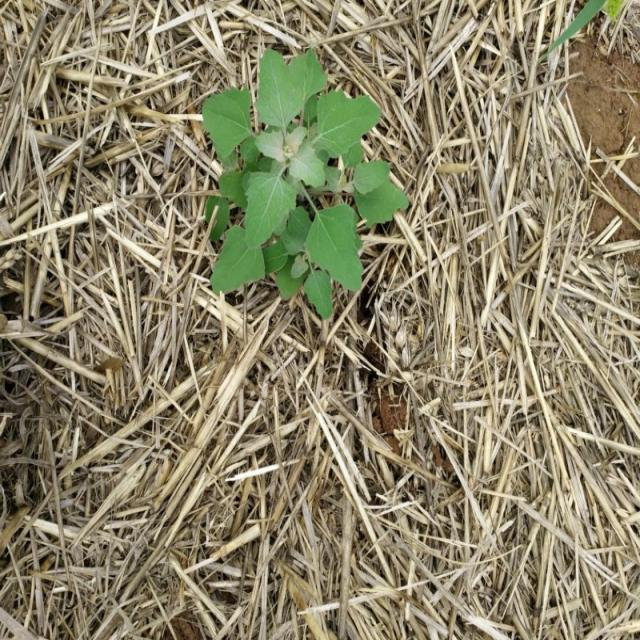ca: (205, 47, 408, 316)
